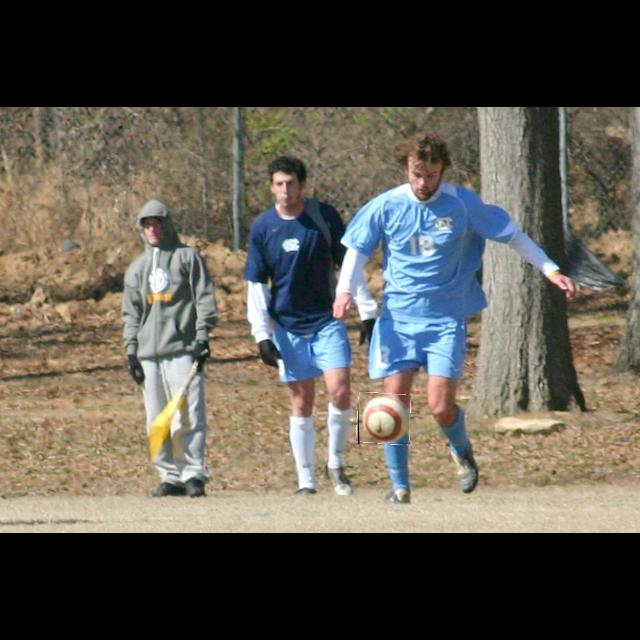Football: (358, 394, 410, 444)
